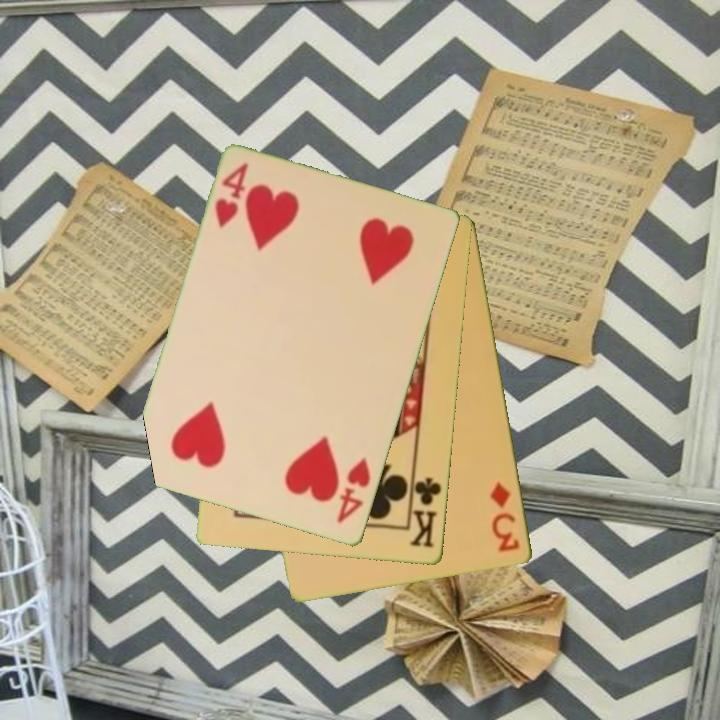3d: (486, 478, 523, 555)
4h: (333, 454, 374, 526), (211, 160, 252, 232)
Kc: (406, 469, 444, 551)
